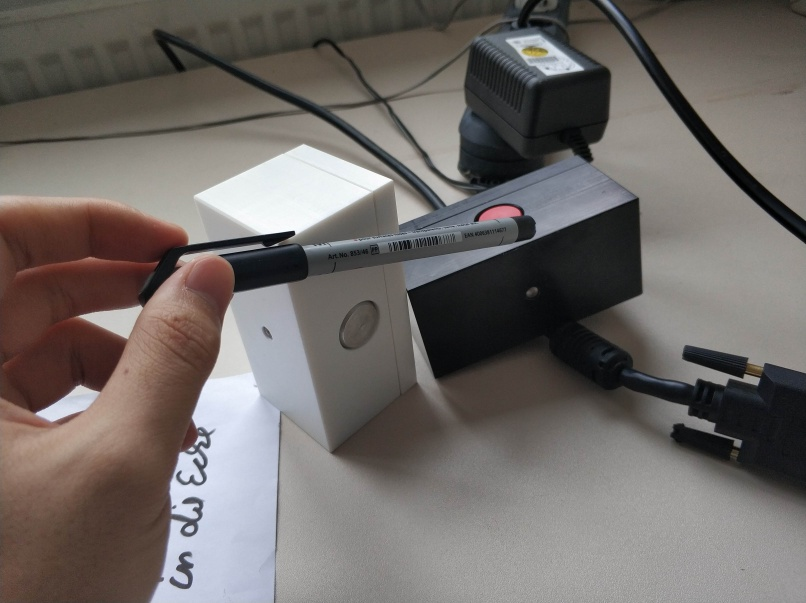black+black+red: (395, 155, 647, 378)
white+white+silver: (190, 139, 418, 458)
